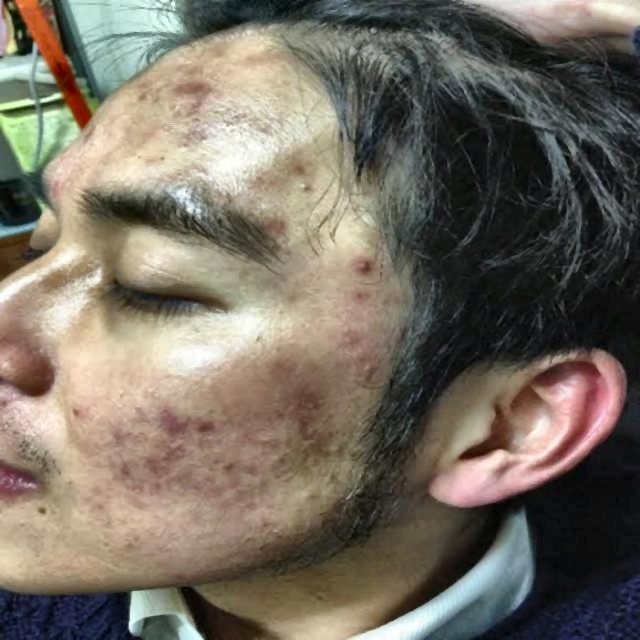pustule: (282, 387, 318, 423), (155, 398, 192, 433), (147, 432, 184, 467), (277, 155, 320, 185), (335, 256, 381, 277), (232, 455, 264, 477), (178, 79, 203, 99), (197, 419, 222, 435)
